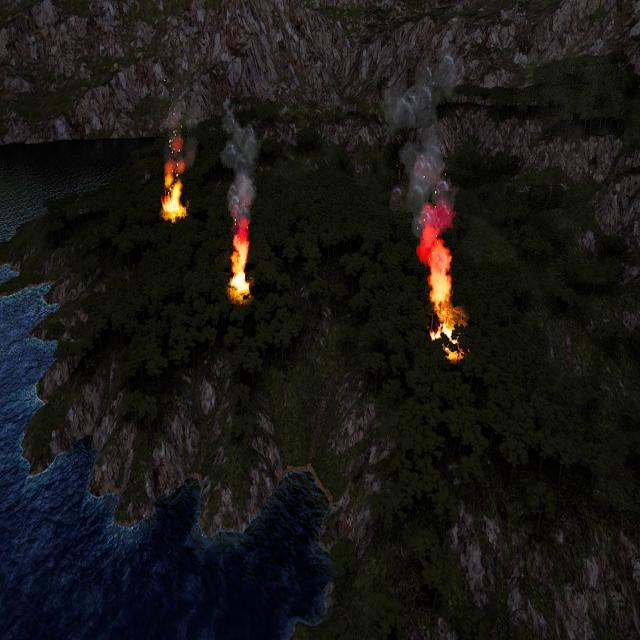fire: (414, 206, 468, 361), (228, 229, 253, 300), (160, 157, 186, 219)
smoke: (384, 62, 476, 306), (222, 103, 257, 219), (163, 96, 194, 158)
